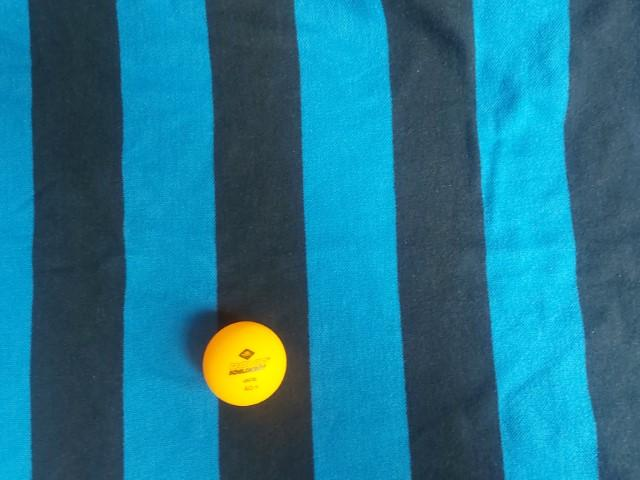oball: (196, 317, 294, 414)
